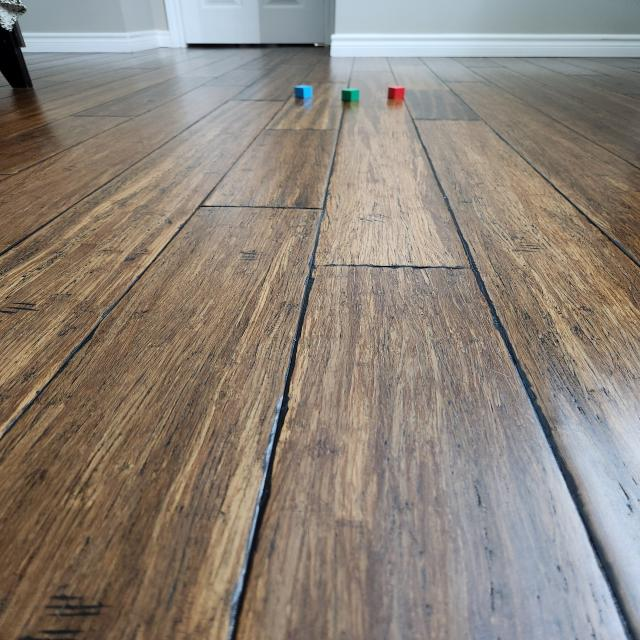bluecube: (295, 85, 314, 98)
green cube: (341, 88, 360, 102)
red cube: (389, 85, 405, 99)
